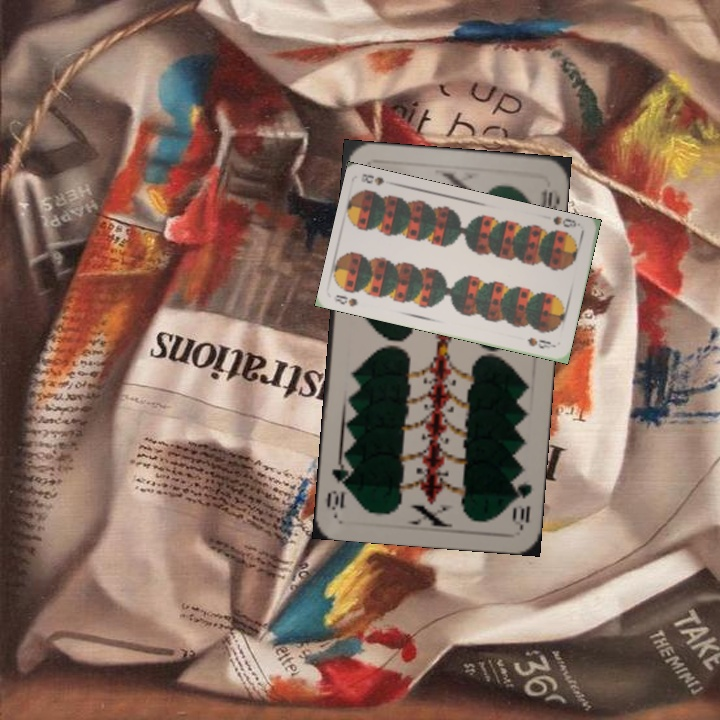G10: (508, 469, 535, 529)
S8: (549, 213, 583, 230), (331, 290, 360, 309)
